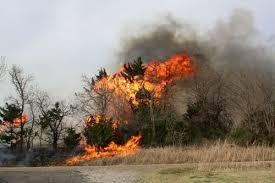fire: (85, 52, 195, 154), (63, 135, 144, 163), (2, 110, 29, 127)
